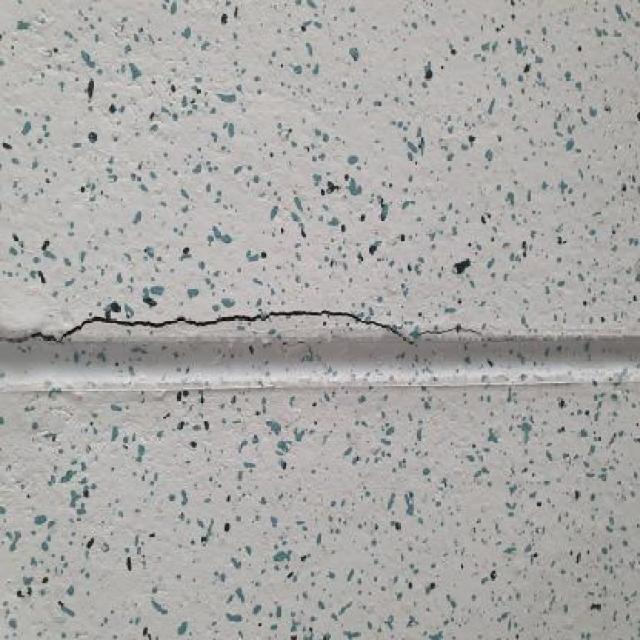GRIETA: (0, 310, 416, 343), (418, 325, 480, 336)
